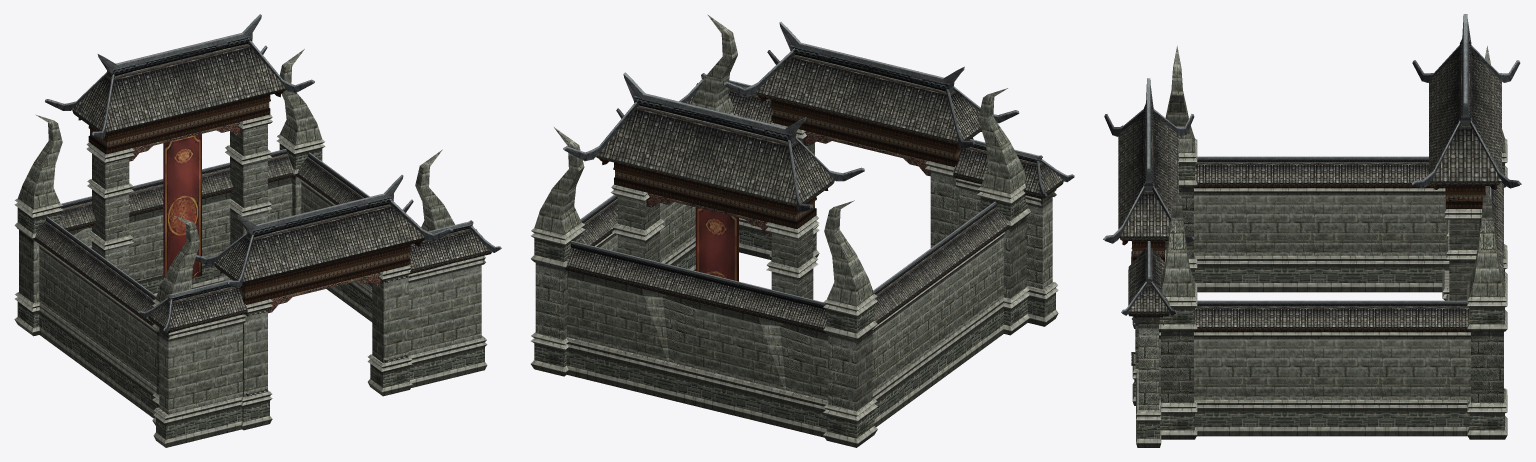
File: thief_dungeon_gate.fbx
3 renders of one model, left to right at view 1: azimuth 30°, elevation 25°; view 2: azimuth 150°, elevation 25°; view 3: azimuth 270°, elevation 25°, orthographic. The views are drawn at different scales.
Visible parts, largest first — view 1: b1s-002-inwall-01_1, b1s-002-inwall-02; view 2: b1s-002-inwall-01_1, b1s-002-inwall-02; view 3: b1s-002-inwall-01_1.
Boxes of the visible parts, x1,y1,x2,y2 form: b1s-002-inwall-01_1: (14,14,501,447); b1s-002-inwall-02: (129,122,381,313); b1s-002-inwall-01_1: (531,14,1074,447); b1s-002-inwall-02: (646,131,930,281); b1s-002-inwall-01_1: (1103,14,1521,447).
Bounding box in the file's own units: 21.77 × 16.45 × 20.71.
